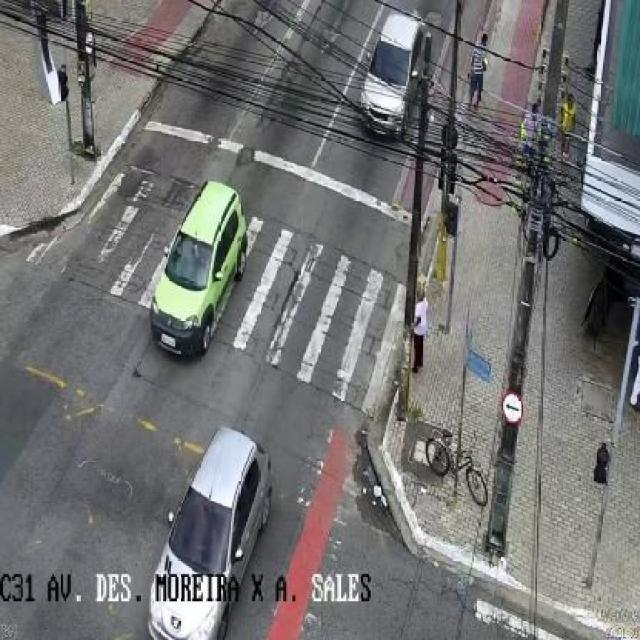Car: (146, 430, 273, 640), (150, 181, 248, 360), (360, 13, 430, 137)
Cycle: (423, 426, 499, 512)
